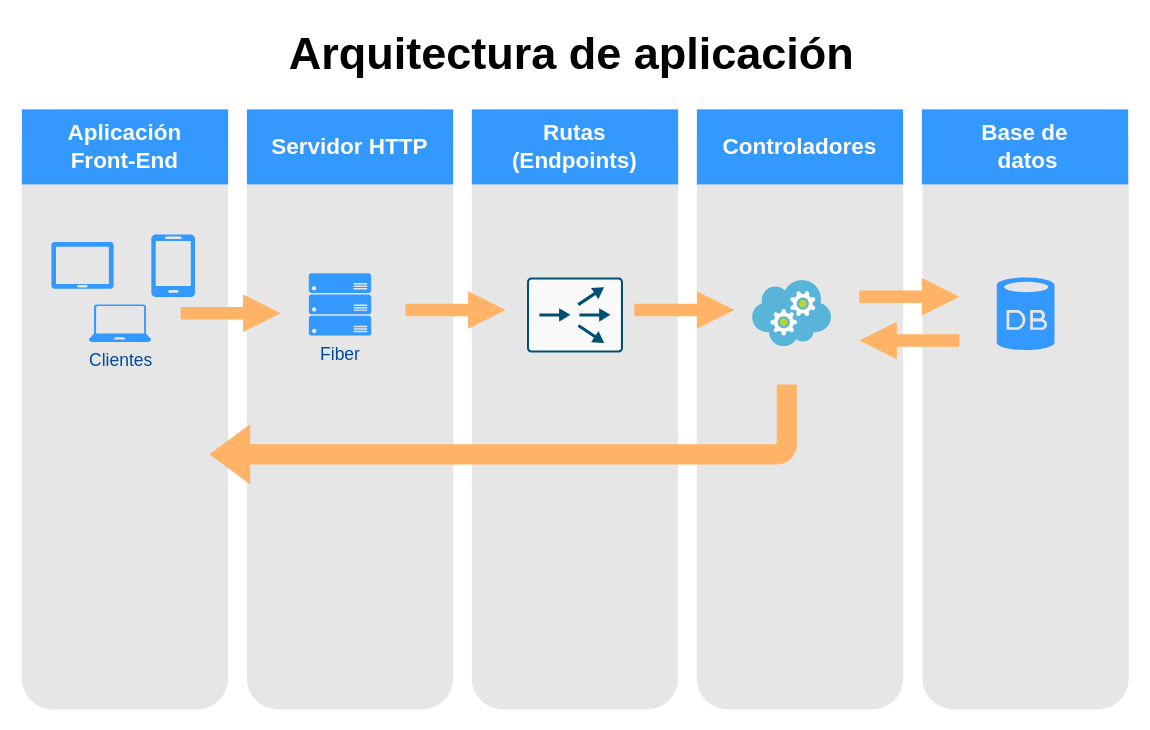
The diagram is 1150 pixels wide and 730 high, and some of its shapes have lost their labels. The centre of each missing label's shape, as x and y in pixels:
Database: the point at 1025,313
Handlers: the point at 791,313
Routes: the point at 574,314
